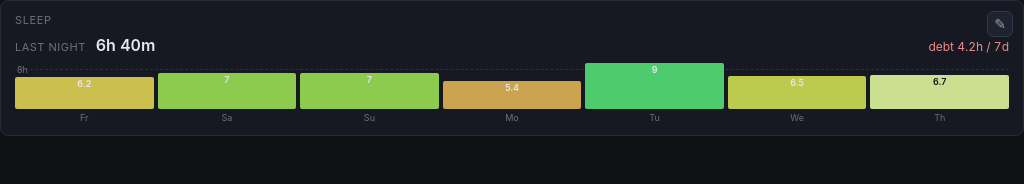
Test: SleepBlock inline edit › on save failure shows an inline error and stays in edit mode
Click the button with test id "block-edit". click: (1000, 24)
box: [987,11,1013,37]
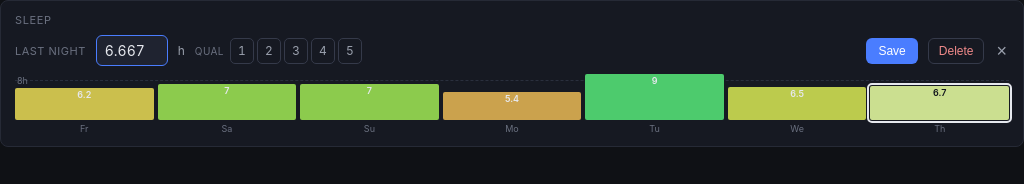
Replace the text in the field with test id "sleep-hours-input" with "7". click: (132, 50)
box: [96,35,168,66]
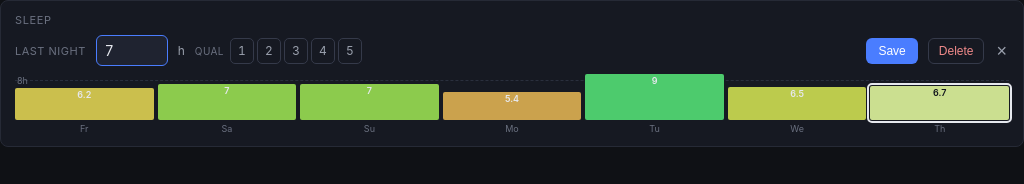
Click the button with test id "sleep-save". click: (892, 50)
box: [866,38,918,64]
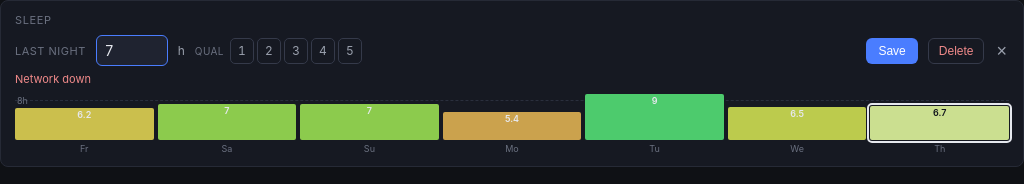
Expected: the text with test id "sleep-edit-error" reads "Network down", [15,72,91,86]
